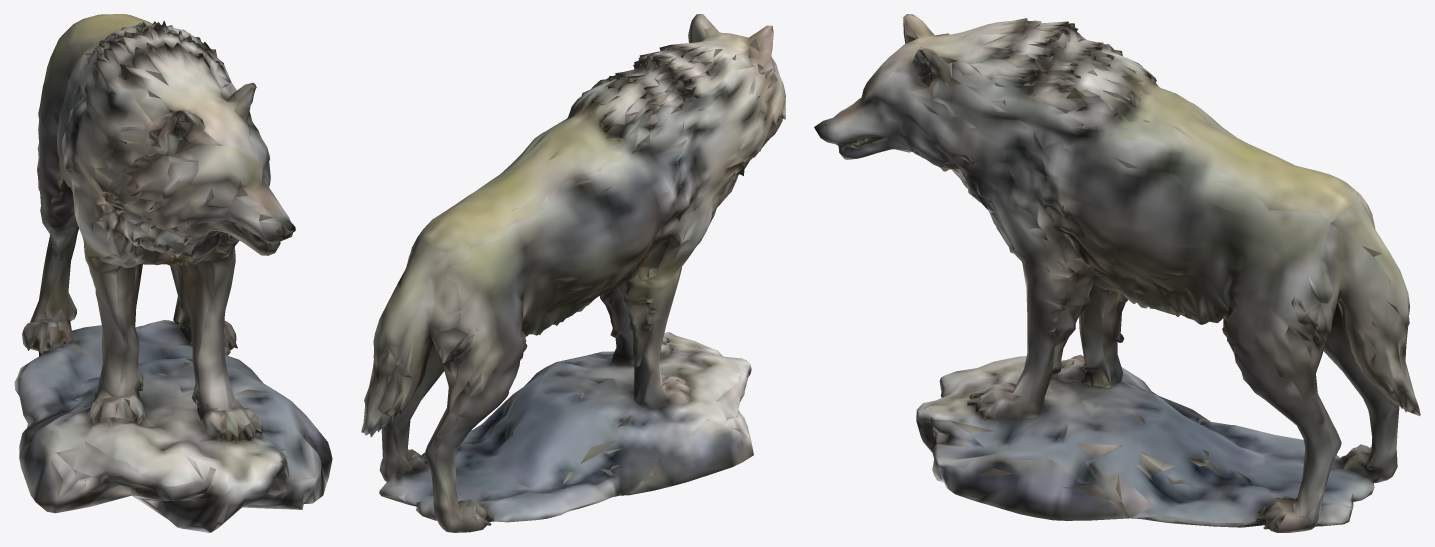
The model's file is kit_erzurum_wolf.glb.
3 renders of one model, left to right at view 1: azimuth 30°, elevation 25°; view 2: azimuth 150°, elevation 25°; view 3: azimuth 270°, elevation 25°, orthographic. The views are drawn at different scales.
Parts seen in each view (by area): view 1: Mesh1.0; view 2: Mesh1.0; view 3: Mesh1.0.
Part boxes in pixels (x1,y1,x2,y2): Mesh1.0: (14, 14, 332, 532); Mesh1.0: (361, 14, 785, 532); Mesh1.0: (814, 14, 1420, 532).
Size of the model in its own units: 2.52 by 3.5 by 4.62.
Materials: 1 (1 with a texture image).
